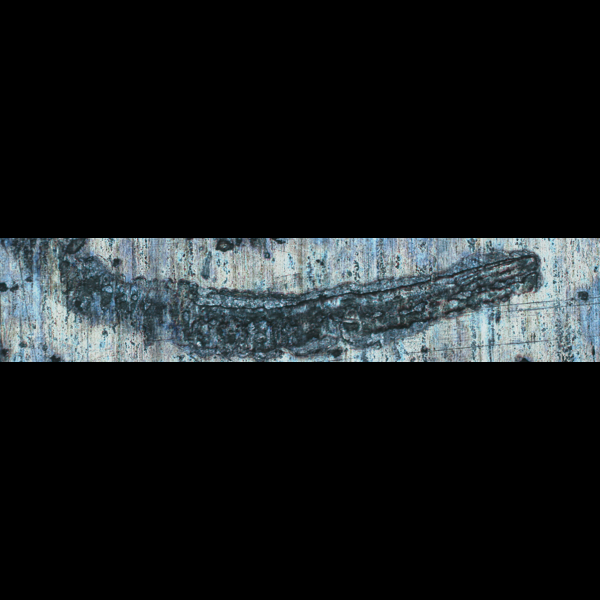d: (11, 242, 549, 362)
